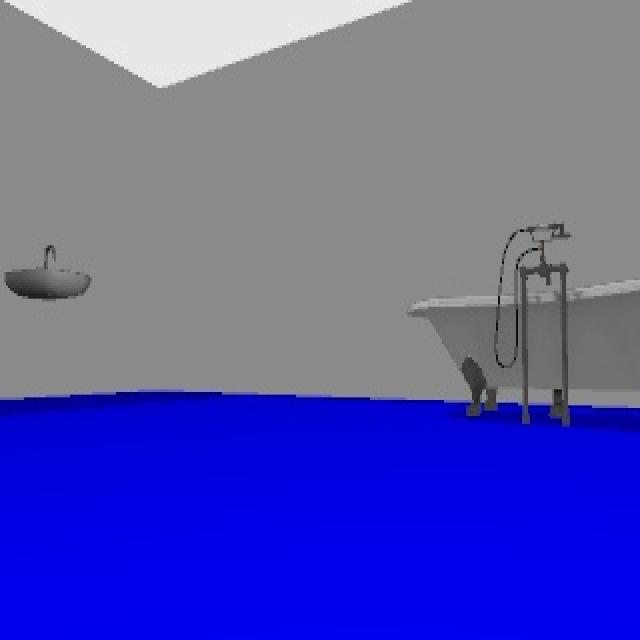bathtub: (408, 224, 638, 427)
